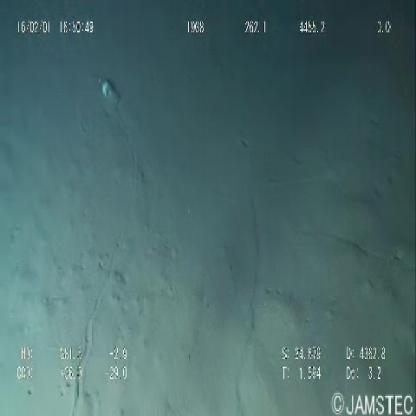Rác: (92, 68, 126, 117)
